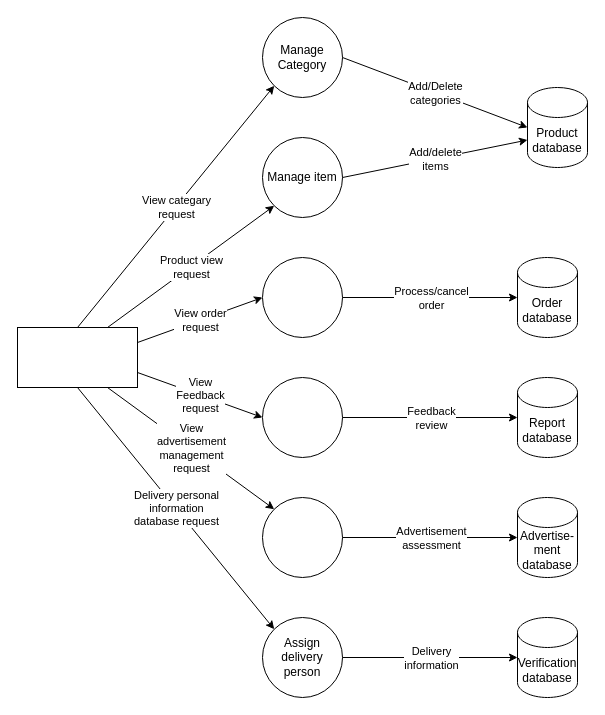
Some shapes in this 605 by 715 pixel diagram are drawn without their labels. The shapes that lost their labels are listed below. From the top down, each one's centre as x and y in pixels, then its label:
At pixel 302 297: "Manage order".
At pixel 77 357: "Administration".
At pixel 302 417: "Manage feedback and report".
At pixel 302 537: "Manage advertisement".
